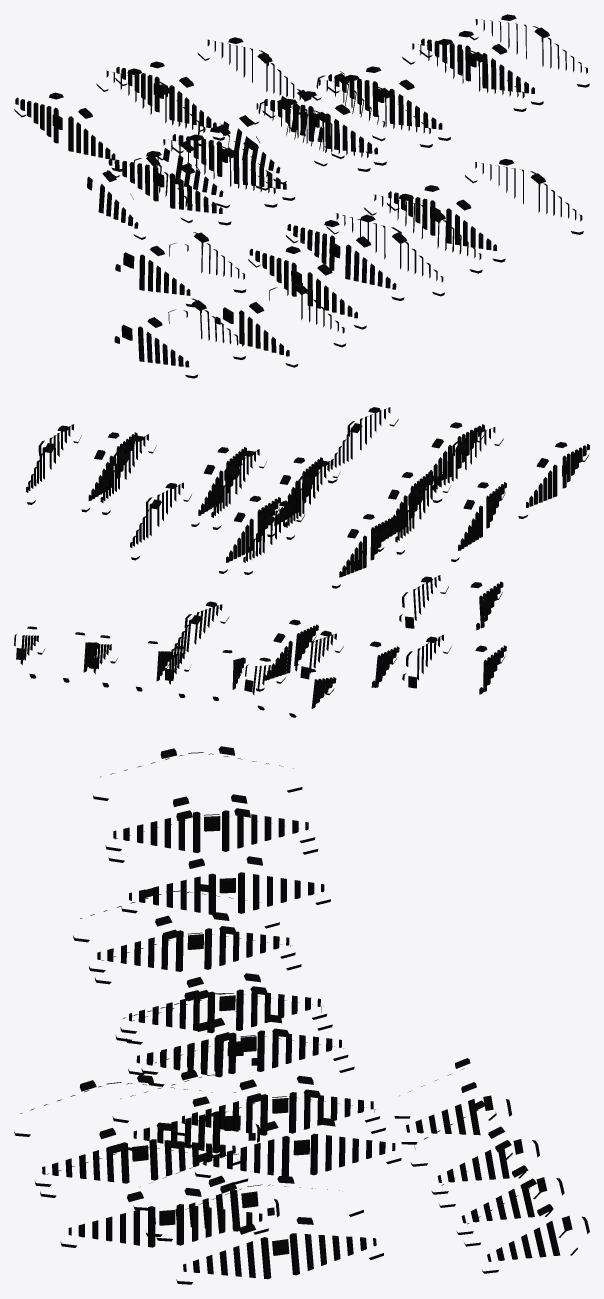
The model's file is prop_static_tan_container_01_08.glb.
3 views of the same model, one above another, from view 1: azimuth 30°, elevation 25°; view 2: azimuth 150°, elevation 25°; view 3: azimuth 270°, elevation 25° (orthographic). The views are drawn at different scales.
Parts seen in each view (by area): view 1: tan_container_01_08_LOD0; view 2: tan_container_01_08_LOD0; view 3: tan_container_01_08_LOD0.
Boxes of the visible parts, box(x1,y1,x2,y2) form: tan_container_01_08_LOD0: box(14, 14, 589, 378); tan_container_01_08_LOD0: box(14, 407, 589, 717); tan_container_01_08_LOD0: box(14, 746, 589, 1284).
Size of what is drawn, in the model's own units: 15.59 by 8.21 by 12.31.
1 material, 1 textured.
